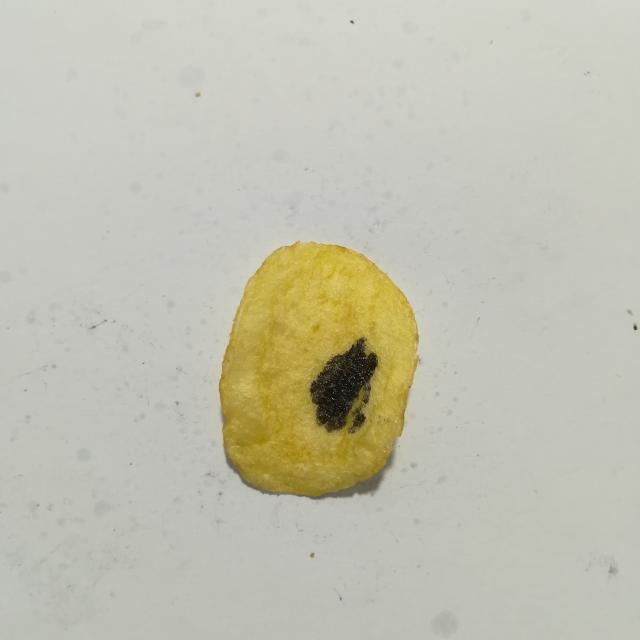chip: (219, 242, 418, 496)
damaged: (310, 338, 378, 432)
